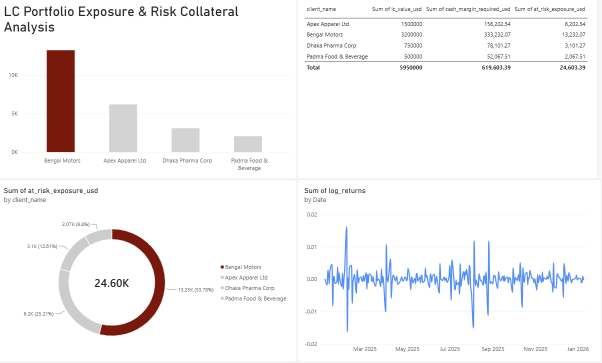

This screenshot's page, from the dashboard's own definition file:
{"tool":"powerbi","page":{"name":"Page 1","canvas":[1920,1080],"ordinal":0},"visuals":[{"type":"clusteredColumnChart","title":"LC Portfolio Exposure & Risk Collateral Analysis","fields":{"Category":["public active_lc_risk.client_name"],"Y":["Sum(public active_lc_risk.at_risk_exposure_usd)"]},"box":[0,0,749.8,454.4],"z":0},{"type":"donutChart","fields":{"Category":["public active_lc_risk.client_name"],"Y":["Sum(public active_lc_risk.at_risk_exposure_usd)"]},"box":[0,455,750,454],"z":1},{"type":"lineChart","fields":{"Category":["date_dimension.Date"],"Y":["Sum(public fx_returns.log_returns)"]},"box":[750,455,760,455],"z":2},{"type":"tableEx","fields":{"Values":["public active_lc_risk.client_name","Sum(public active_lc_risk.lc_value_usd)","Sum(public active_lc_risk.cash_margin_required_usd)","Sum(public active_lc_risk.at_risk_exposure_usd)"]},"box":[750,0,750,454],"z":3}]}

Visuals, with their boxes on the page's 1920x1080 design canvas (x1, y1, x2, y2). These are canvas units, not pixel positions in the 602x363 screenshot, which may show the page scaled, cropped or inside an application window:
"LC Portfolio Exposure & Risk Collateral Analysis" clusteredColumnChart: bbox(0, 0, 750, 454)
donutChart - public active_lc_risk.client_name x Sum(public active_lc_risk.at_risk_exposure_usd): bbox(0, 455, 750, 909)
lineChart - date_dimension.Date x Sum(public fx_returns.log_returns): bbox(750, 455, 1510, 910)
tableEx - public active_lc_risk.client_name x Sum(public active_lc_risk.lc_value_usd): bbox(750, 0, 1500, 454)
